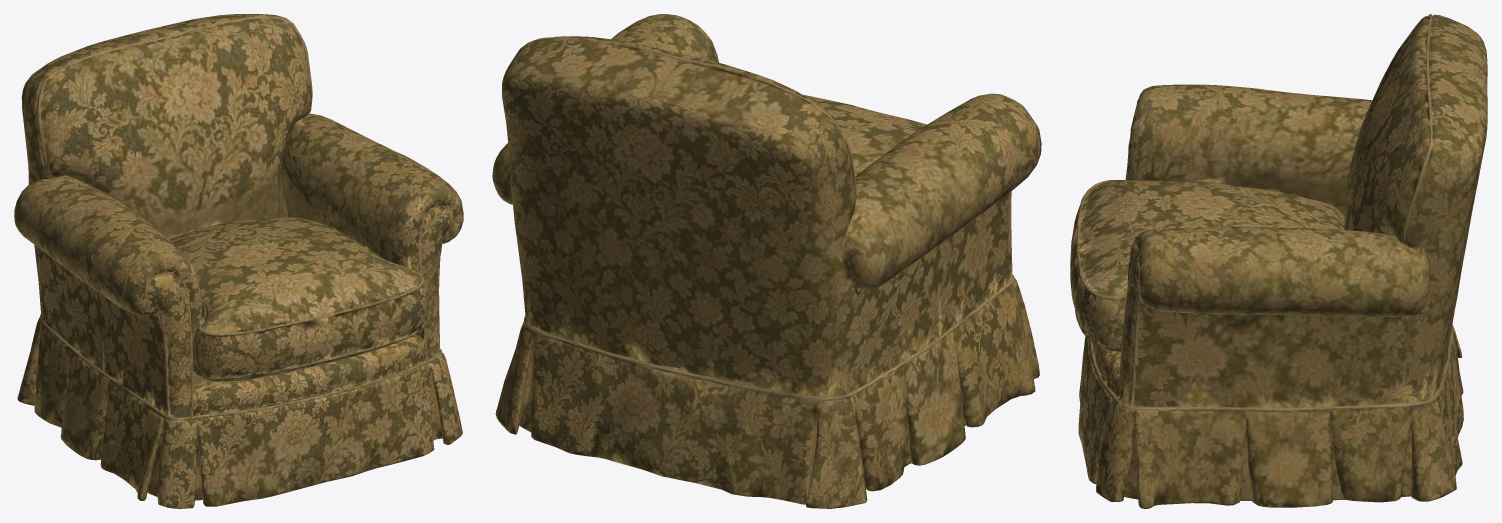
Rendered from armchair.glb.
The picture shows the model from 3 angles, left to right: view 1: azimuth 30°, elevation 25°; view 2: azimuth 150°, elevation 25°; view 3: azimuth 270°, elevation 25°; orthographic projection. The views are drawn at different scales.
Size of the model in its own units: 1.9 by 1.77 by 1.83.
1 material, 1 textured.
